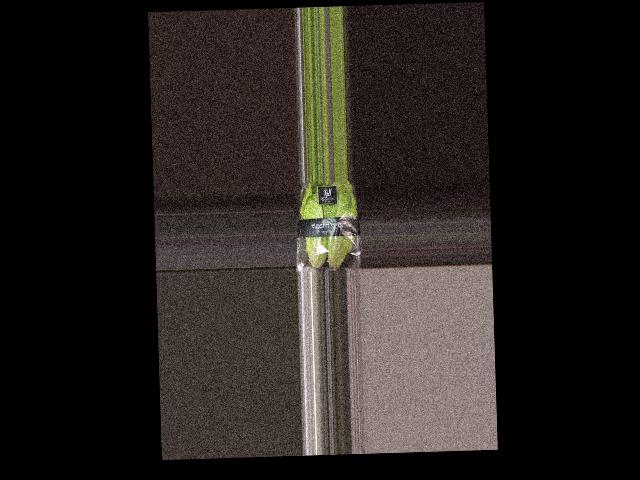lettuce: (294, 181, 357, 272)
